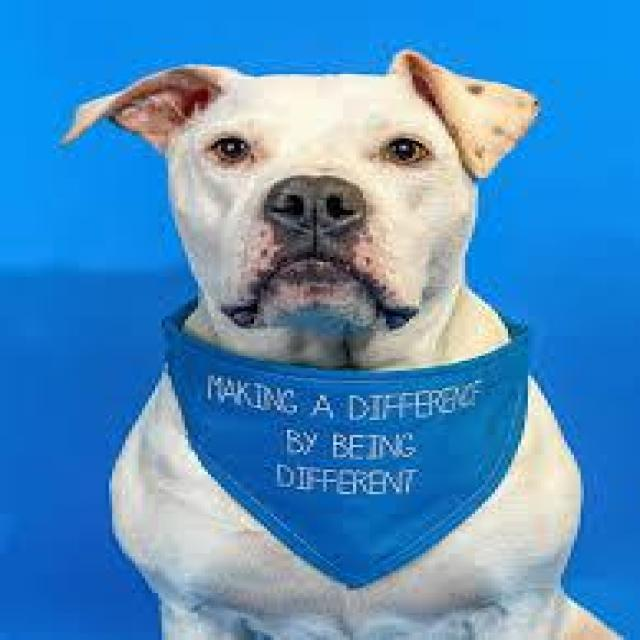Dog: (56, 46, 565, 351)
